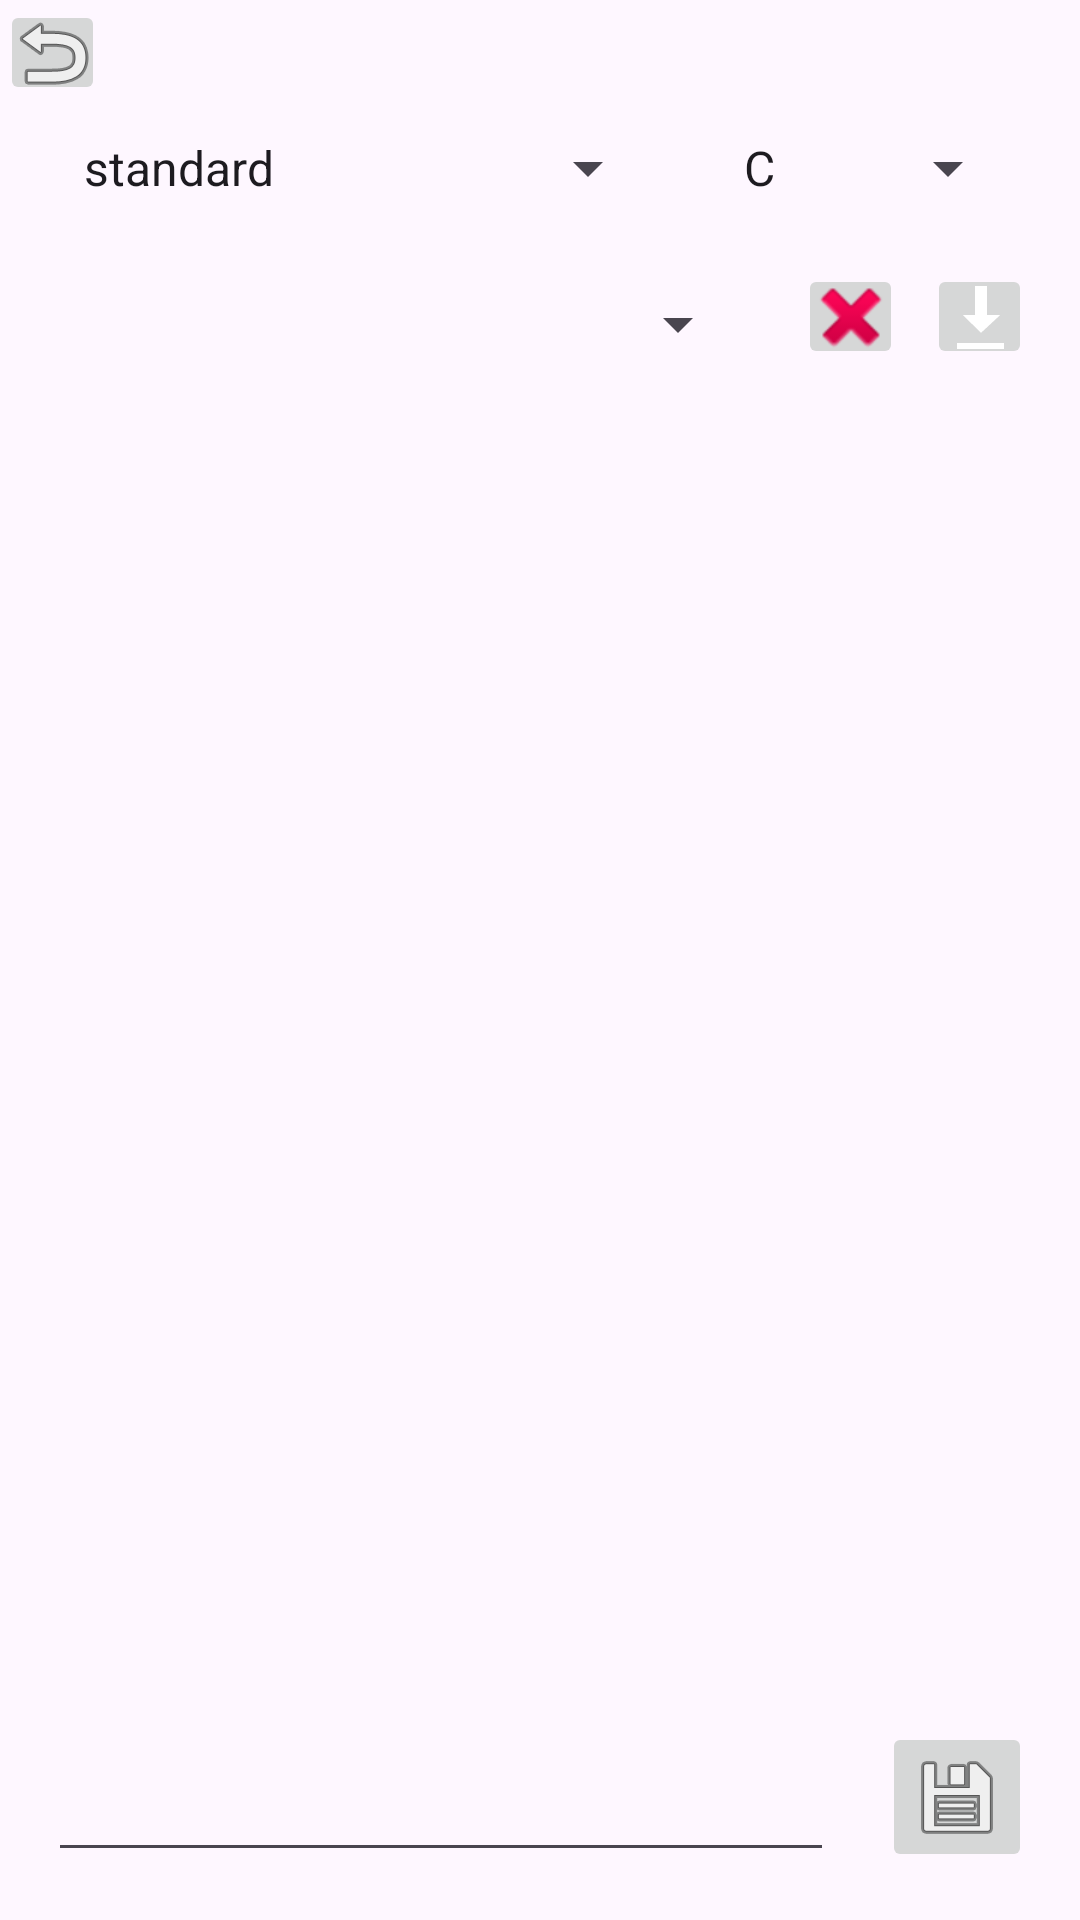

Icons on this 1080x1920 Android screen, each with the point to tap as point (x, y):
delete: point (850, 316)
download: point (979, 316)
revert: point (52, 52)
save: point (957, 1797)
